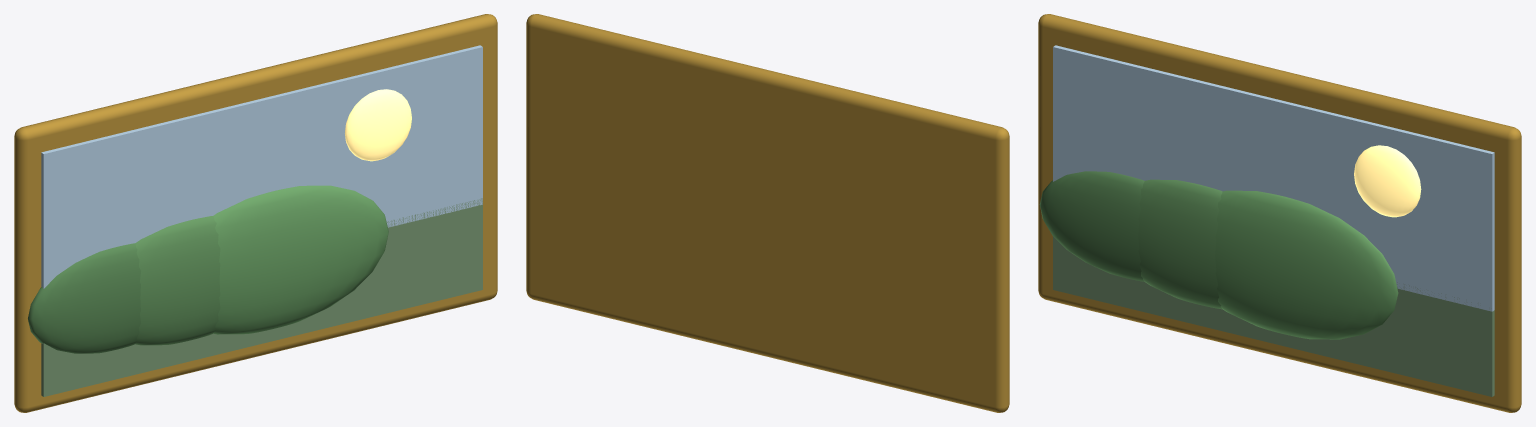
File: mural.glb
3 renders of one model, left to right at view 1: azimuth 30°, elevation 25°; view 2: azimuth 150°, elevation 25°; view 3: azimuth 330°, elevation 25°, orthographic.
Visible parts, largest first — view 1: mural; view 2: mural; view 3: mural.
Part boxes in pixels (box(x1,y1,x2,y2)): mural: box(14, 14, 497, 412); mural: box(526, 14, 1009, 412); mural: box(1038, 14, 1521, 412).
Bounding box in the file's own units: 2.3 × 1.3 × 0.17.
